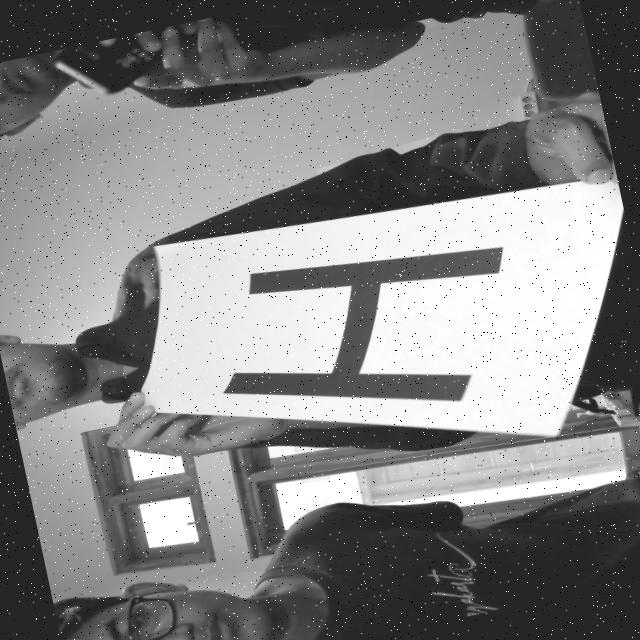h: (185, 213, 558, 455)
